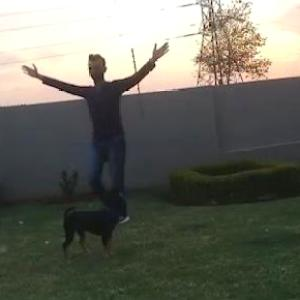takeoff: (32, 46, 161, 211)
